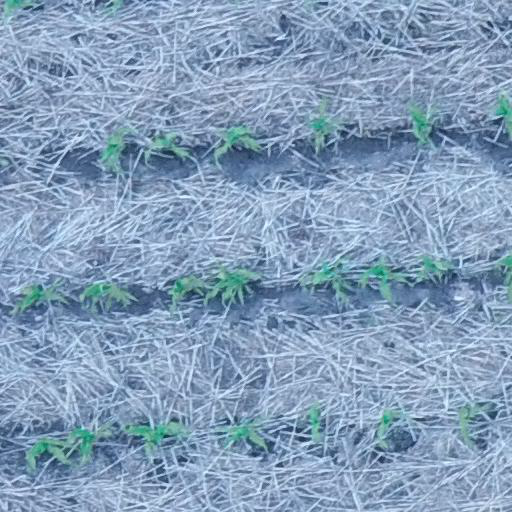planta: (123, 422, 193, 456), (203, 264, 255, 306), (358, 258, 406, 302), (307, 95, 342, 151), (302, 256, 347, 298), (12, 280, 67, 314), (213, 417, 269, 450), (212, 123, 260, 161), (64, 423, 110, 461), (25, 435, 71, 472), (80, 280, 130, 307), (409, 100, 437, 145), (99, 125, 132, 163), (459, 404, 486, 445), (150, 132, 190, 158), (170, 275, 204, 304), (416, 253, 451, 280), (377, 409, 400, 448), (308, 402, 320, 439)
